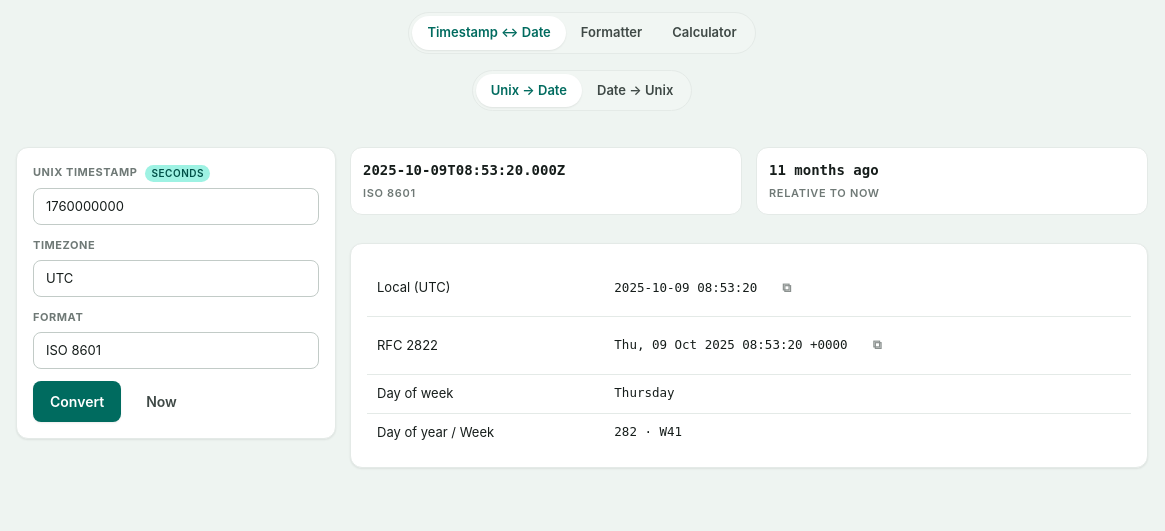
Test case: DateToolsPage — calculator add/subtract sub-mode › switching to Add or subtract days shows base date, amount, and business-days checkbox
The image size is (1165, 531).
Step 1. Click the button "Calculator" → click(704, 33), box top-left (657, 16), bottom-right (752, 50)
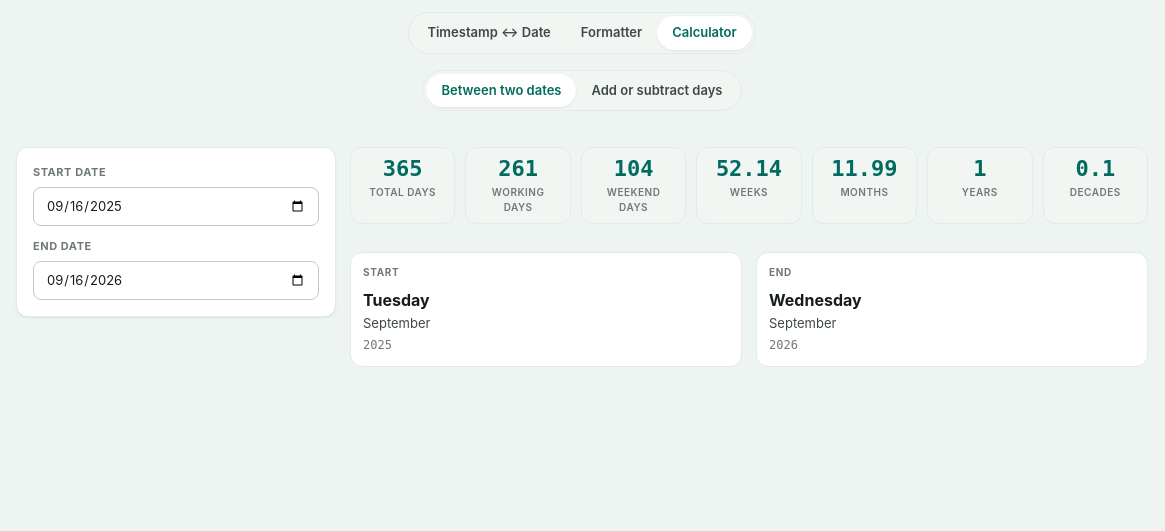
Step 2. Click the button "Add or subtract days" → click(657, 90), box top-left (576, 74), bottom-right (738, 107)
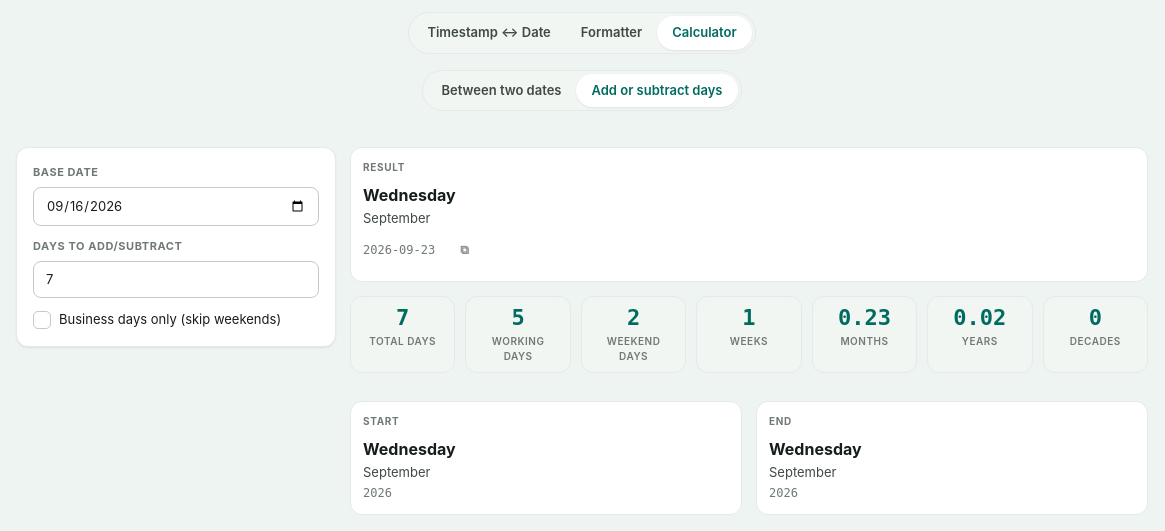
Now the date field labelled "Base date" is shown, box top-left (33, 186), bottom-right (319, 226)
Now the number field labelled "Days to add/subtract" is shown, box top-left (33, 260), bottom-right (319, 298)
Now the checkbox named "business days only" is shown, box top-left (33, 311), bottom-right (51, 329)
